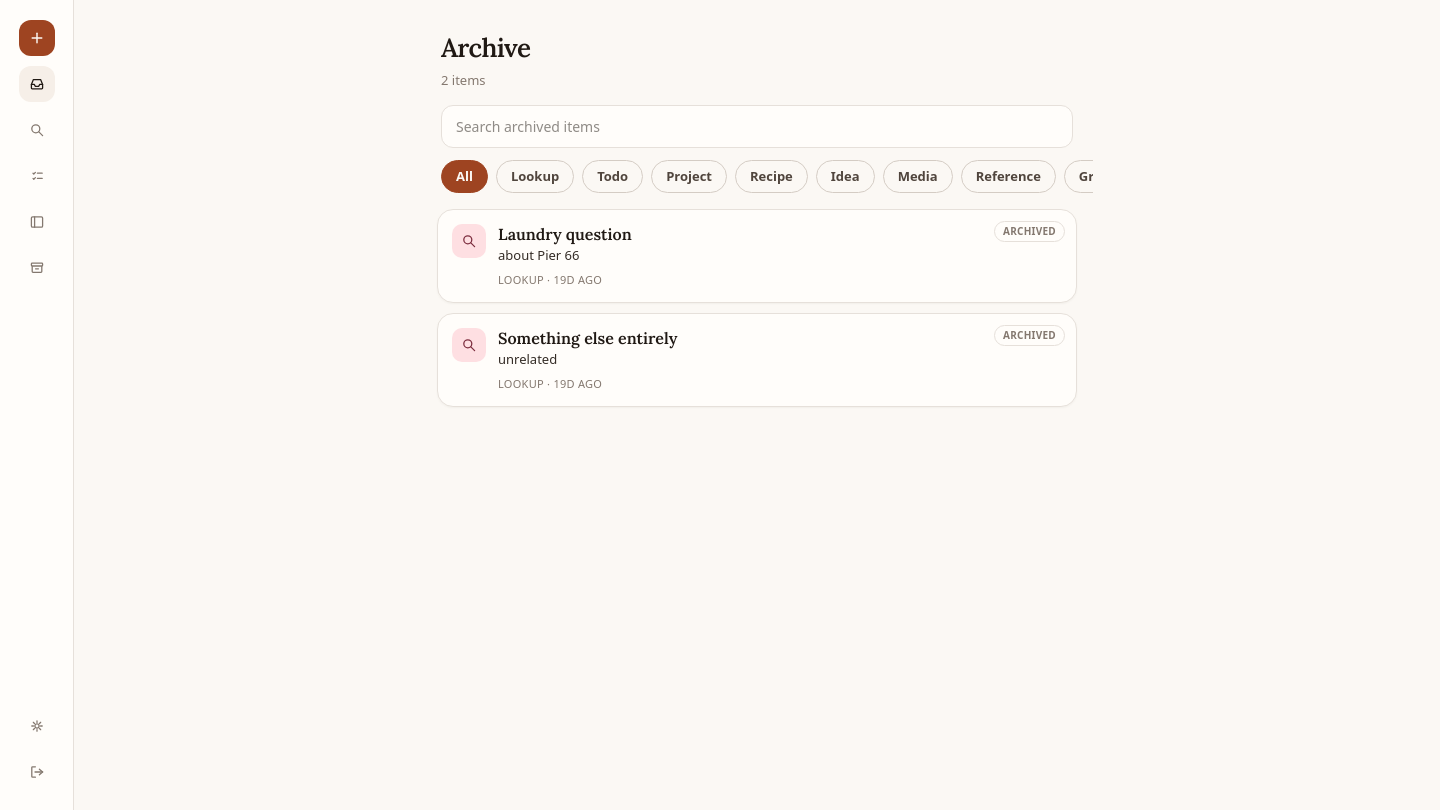
Test case: Archive › filters by the search field across title, body, and summary
expect the text "Laundry question" is shown: met, box [498,224,632,244]
In the field with placeholder "Search archived items": (757, 126) [441,104,1073,148], type "pier 66"
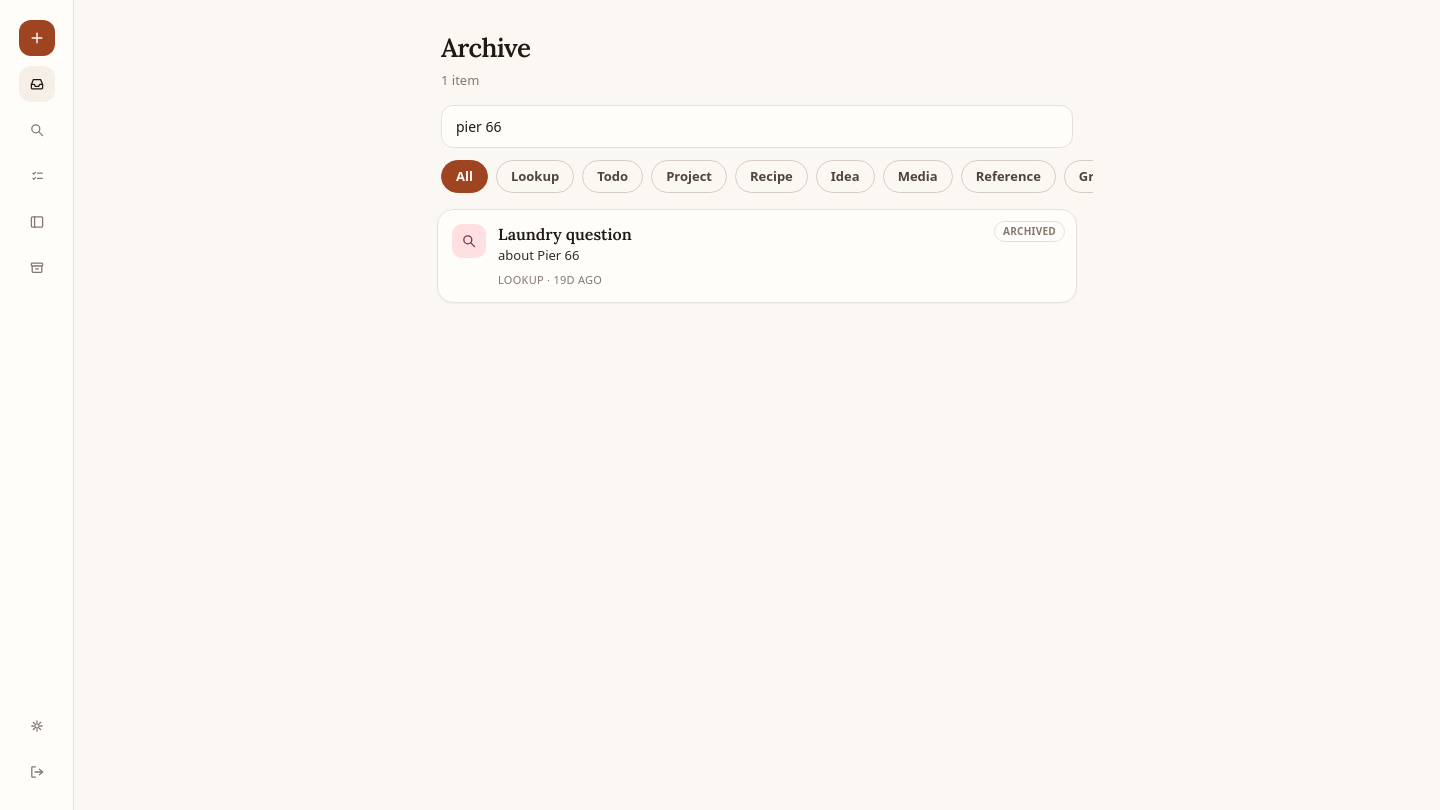
expect the text "Laundry question" is shown: met, box [498,224,632,244]
expect the link "Something else entirely" is gone: met
